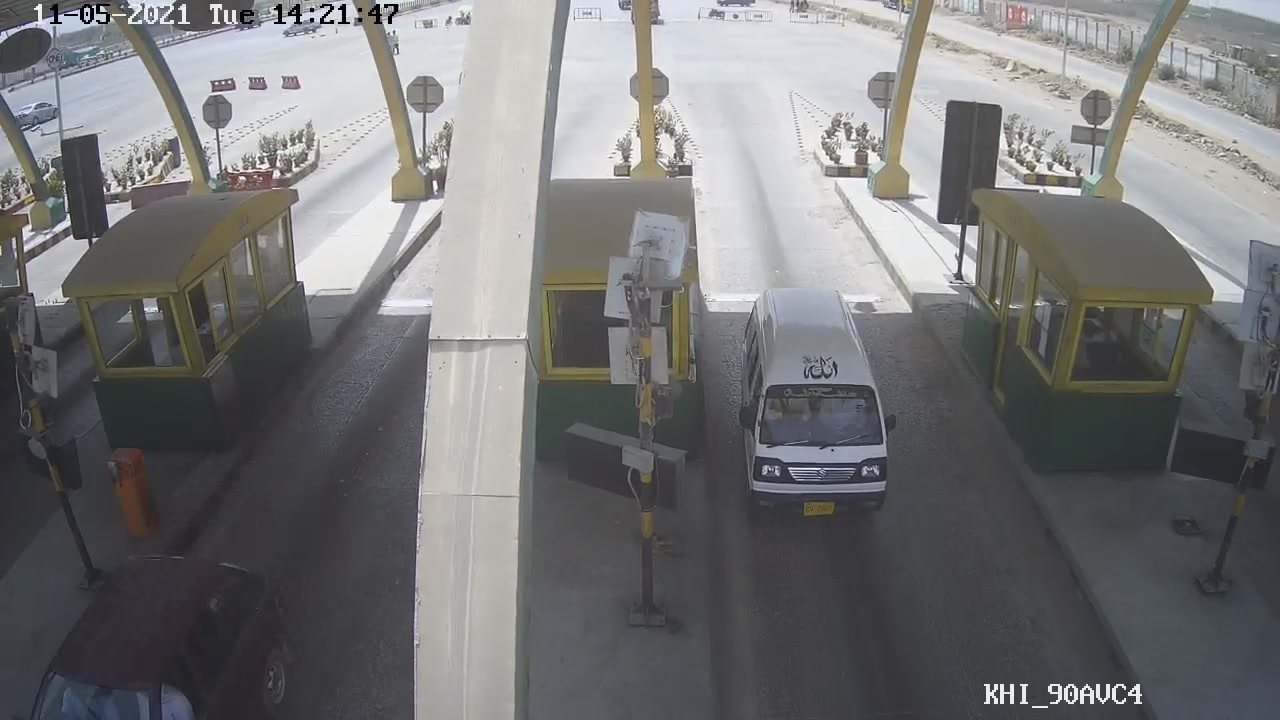F1: (736, 286, 894, 527)
